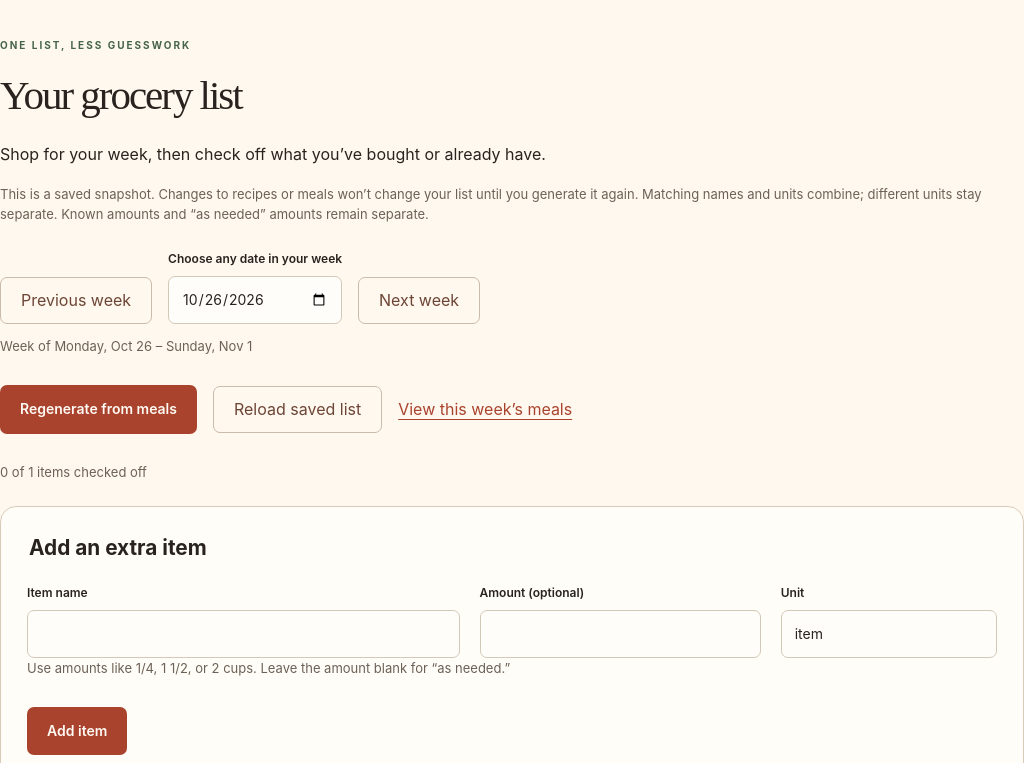
Test: generation requires confirmation and cancellation preserves the list
The image size is (1024, 763).
Click the button "Regenerate from meals". click: (98, 409)
box: [0,385,197,434]
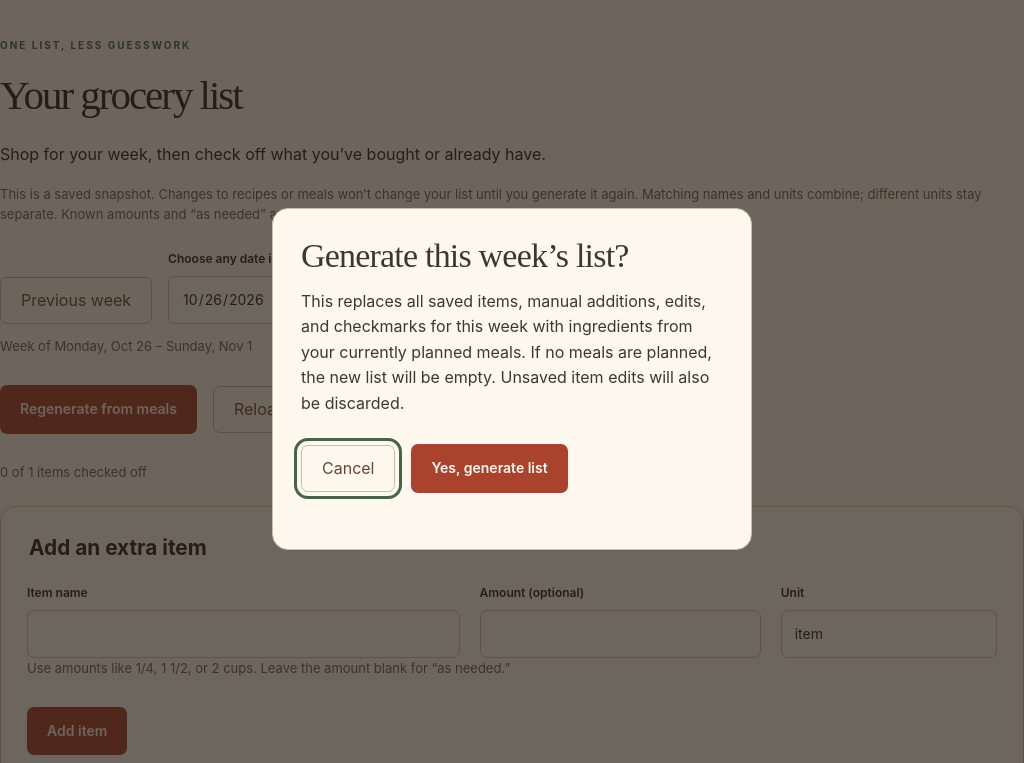
Expected: the dialog shows "edits, and checkmarks", [301,290,712,413]
Click the button "Cancel". click: (348, 469)
box: [301,445,396,492]
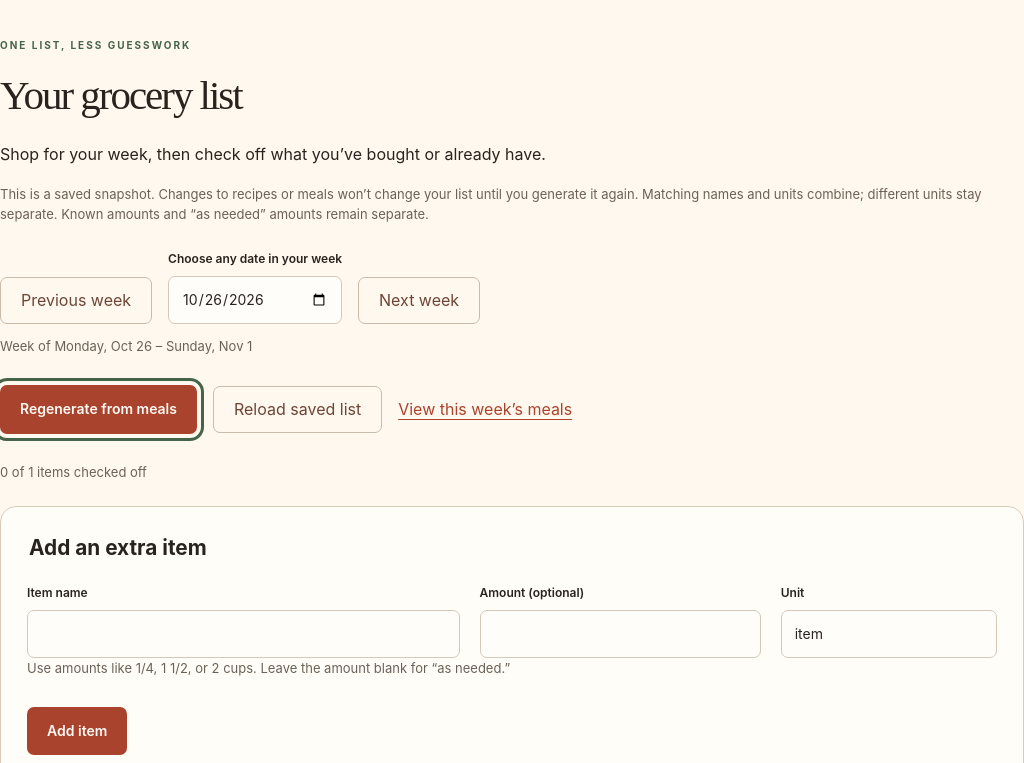
Click the button "Regenerate from meals". click: (98, 409)
box: [0,385,197,434]
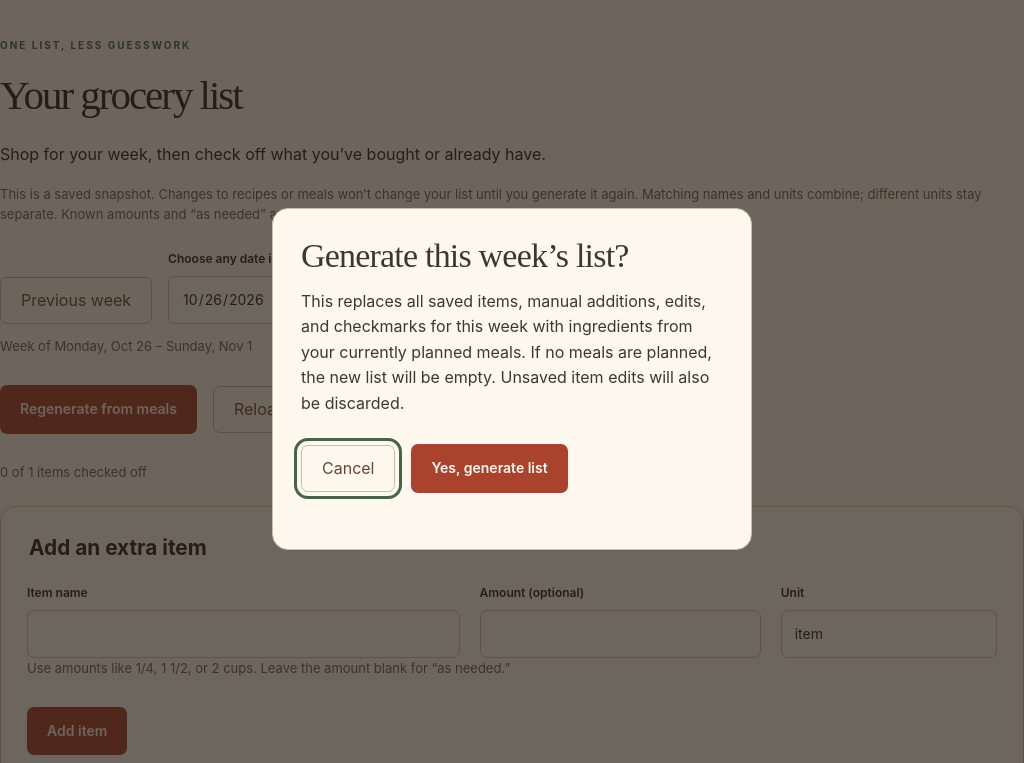
Click the button "Yes, generate list". click: (490, 469)
box: [412,444,568,493]
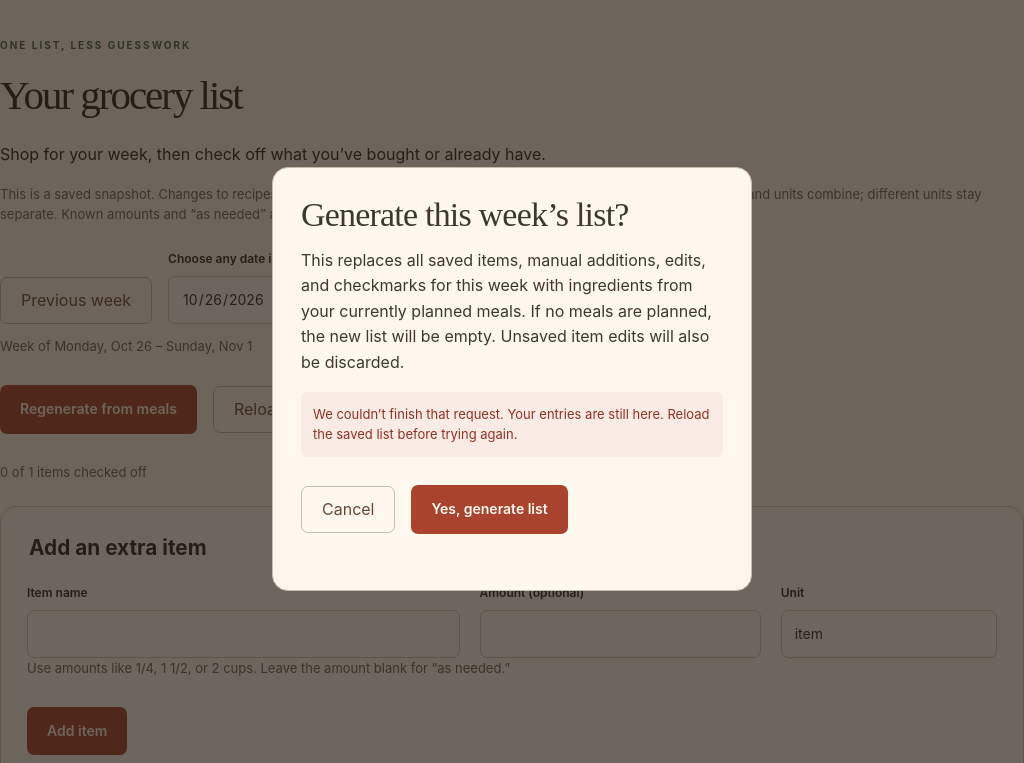
Expected: the message shows "couldn’t finish", [313,406,710,442]
Click the button "Yes, generate list". click: (490, 510)
box: [412,485,568,534]
(page scrolled)
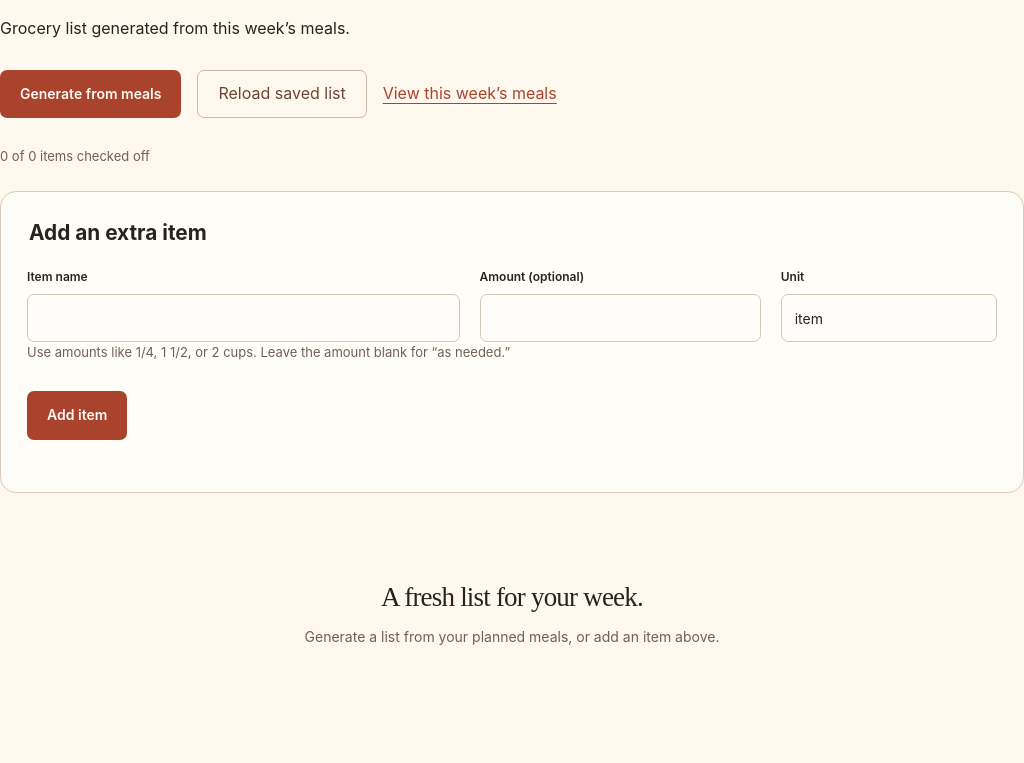
Expected: the heading "A fresh list for your week." is shown, [381,582,643,612]
